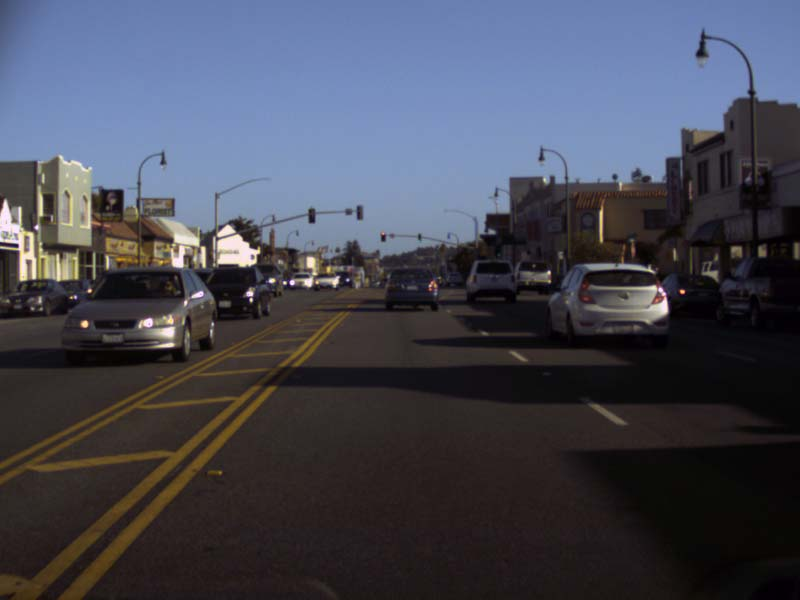Green: (496, 245, 502, 258), (417, 233, 421, 243)
Red: (380, 231, 386, 241)
